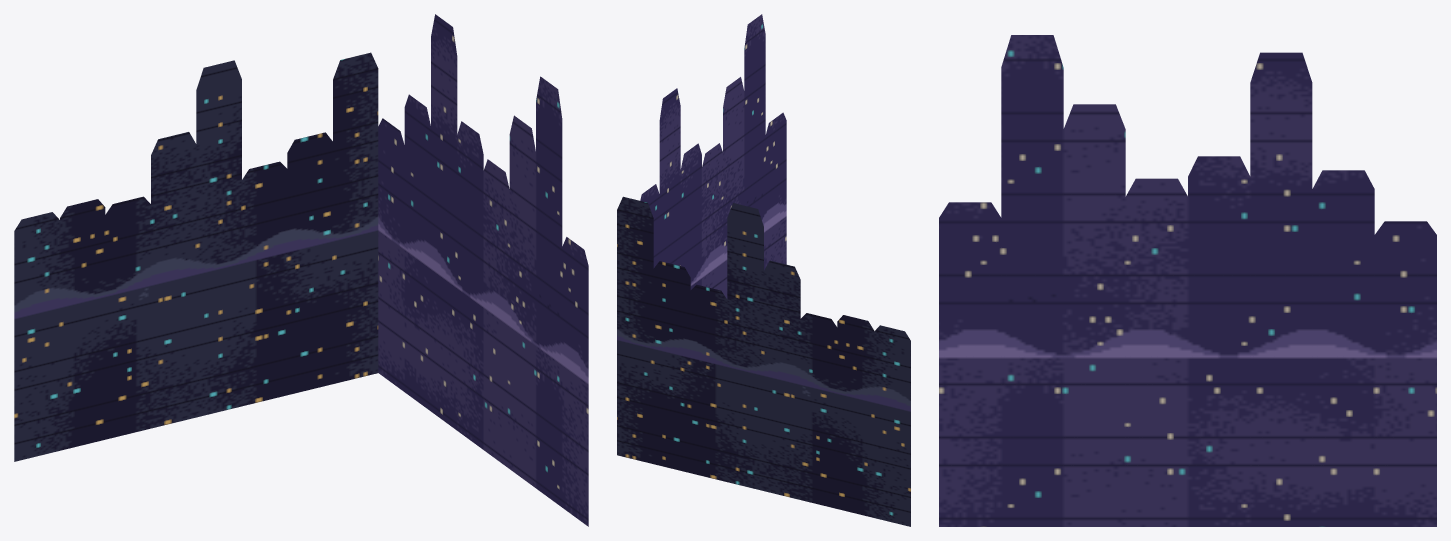
The model's file is cysky.corner.glb.
3 renders of one model, left to right at view 1: azimuth 30°, elevation 25°; view 2: azimuth 150°, elevation 25°; view 3: azimuth 270°, elevation 25°, orthographic. The views are drawn at different scales.
Visible parts, largest first — view 1: kit_card_skyline_a, kit_card_skyline_b; view 2: kit_card_skyline_a, kit_card_skyline_b; view 3: kit_card_skyline_b.
Part boxes in pixels (<box>): kit_card_skyline_a: <box>14,52,378,461</box>; kit_card_skyline_b: <box>378,14,588,526</box>; kit_card_skyline_a: <box>617,196,910,526</box>; kit_card_skyline_b: <box>640,14,786,298</box>; kit_card_skyline_b: <box>939,35,1436,526</box>.
Bounding box in the file's own units: 32 × 34.88 × 32.
Materials: 2 (2 with a texture image).
